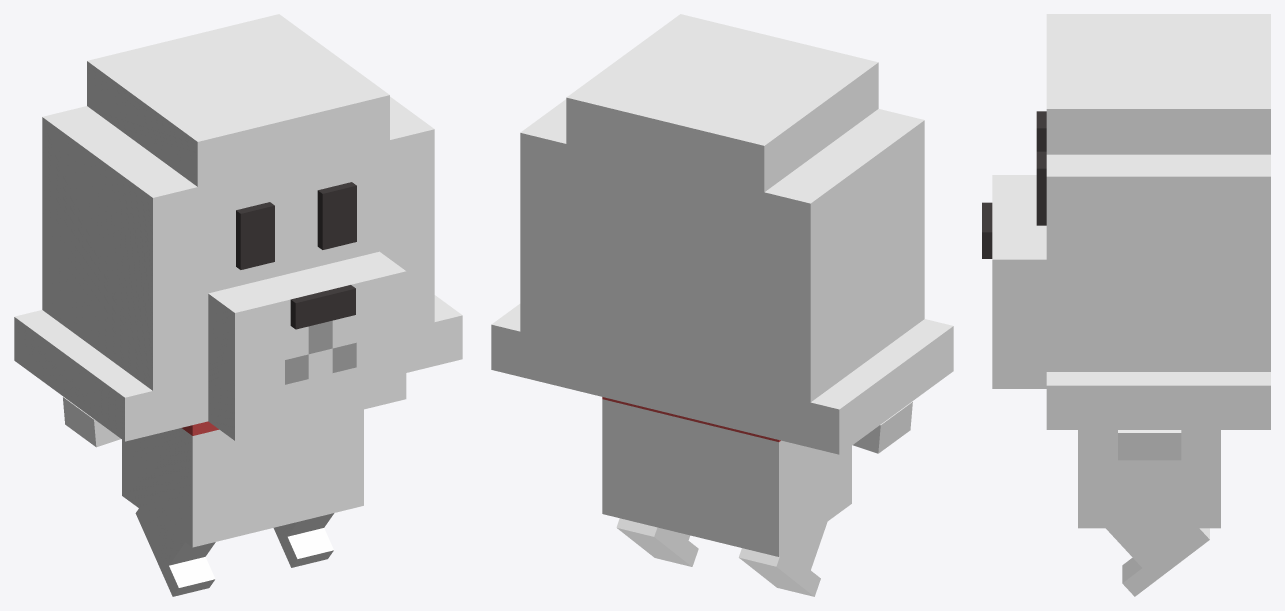
3 views of the same model, side by side, from view 1: azimuth 30°, elevation 25°; view 2: azimuth 150°, elevation 25°; view 3: azimuth 270°, elevation 25° (orthographic). The views are drawn at different scales.
Visible parts, largest first — view 1: Ch_05, Ch_05_Leg_L, Ch_05_Leg_R, Ch_05_Wing_L; view 2: Ch_05, Ch_05_Leg_L, Ch_05_Leg_R, Ch_05_Wing_L; view 3: Ch_05, Ch_05_Leg_R, Ch_05_Wing_R.
Part boxes in pixels (x1,y1,x2,y2): Ch_05: (14,14,462,547); Ch_05_Leg_L: (135,508,215,596); Ch_05_Leg_R: (273,513,334,567); Ch_05_Wing_L: (63,396,120,447); Ch_05: (491,14,953,556); Ch_05_Leg_L: (738,522,827,596); Ch_05_Leg_R: (616,518,698,566); Ch_05_Wing_L: (853,401,912,453); Ch_05: (982,14,1270,528); Ch_05_Leg_R: (1106,528,1209,596); Ch_05_Wing_R: (1118,430,1181,460).
Bounding box in the file's own units: 8.97 × 12.47 × 6.56.
